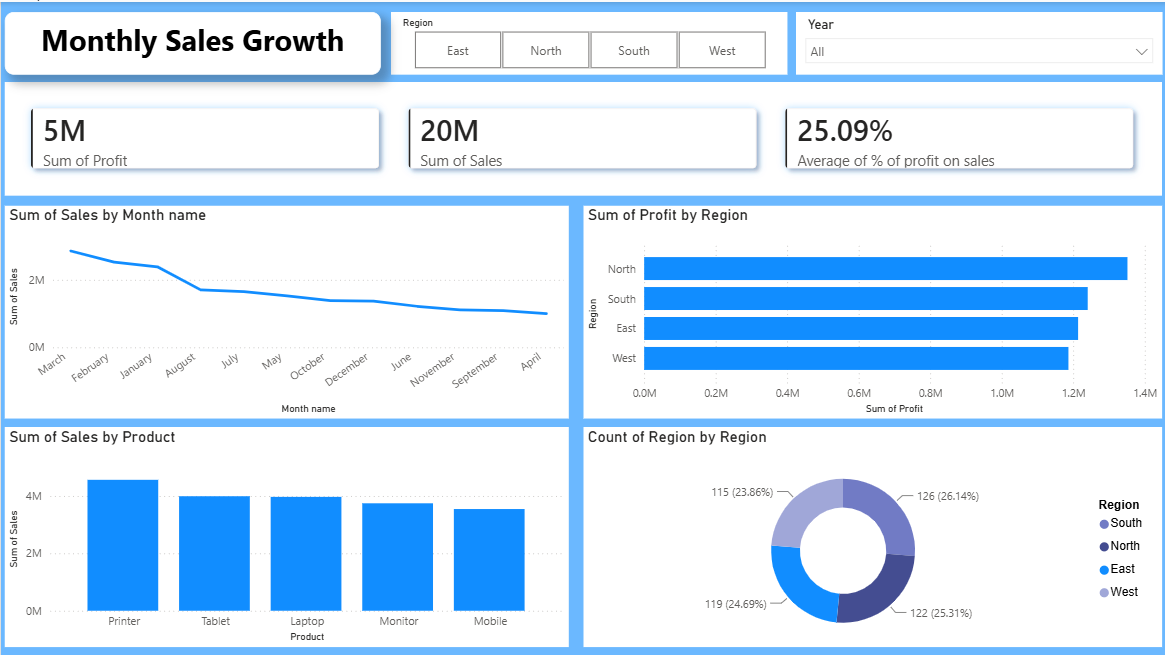

The page's visual inventory and layout, read from the dashboard file:
{"tool":"powerbi","page":{"name":"Page 1","canvas":[1280,720],"ordinal":0},"visuals":[{"type":"cardVisual","fields":{"Data":["Sum(public sales_data.Profit)","Sum(public sales_data.Sales)","Avg(public sales_data.% of profit on sales)"]},"box":[4.1,87.8,1270.7,124.9],"z":0},{"type":"lineChart","fields":{"Y":["Sum(public sales_data.Sales)"],"Category":["public sales_data.Month name"]},"box":[4.1,223.7,618.9,233.3],"z":1000},{"type":"barChart","fields":{"Category":["public sales_data.Region"],"Y":["Sum(public sales_data.Profit)"]},"box":[639.5,223.7,635.3,233.3],"z":2000},{"type":"columnChart","fields":{"Category":["public sales_data.Product"],"Y":["Sum(public sales_data.Sales)"]},"box":[4.1,466.6,618.9,241.5],"z":3000},{"type":"slicer","fields":{"Values":["public sales_data.Year"]},"box":[872.7,11,402.1,68.6],"z":4000},{"type":"slicer","fields":{"Values":["public sales_data.Region"]},"box":[428.1,11,435,68.6],"z":5000},{"type":"textbox","box":[4.1,11,413,68.6],"z":5002},{"type":"donutChart","fields":{"Category":["public sales_data.Region"],"Y":["CountNonNull(public sales_data.Region)"]},"box":[639.5,466.6,635.3,241.5],"z":5003}]}

Visuals, with their boxes in screenshot pixels (x1, y1, x2, y2), scaled from the page's 1280x720 canvas onto the 1165x655 screenshot:
cardVisual - Sum(public sales_data.Profit) x Sum(public sales_data.Sales): region(4, 80, 1160, 193)
lineChart - Sum(public sales_data.Sales) x public sales_data.Month name: region(4, 204, 567, 416)
barChart - public sales_data.Region x Sum(public sales_data.Profit): region(582, 204, 1160, 416)
columnChart - public sales_data.Product x Sum(public sales_data.Sales): region(4, 424, 567, 644)
slicer - public sales_data.Year: region(794, 10, 1160, 72)
slicer - public sales_data.Region: region(390, 10, 786, 72)
textbox: region(4, 10, 380, 72)
donutChart - public sales_data.Region x CountNonNull(public sales_data.Region): region(582, 424, 1160, 644)
